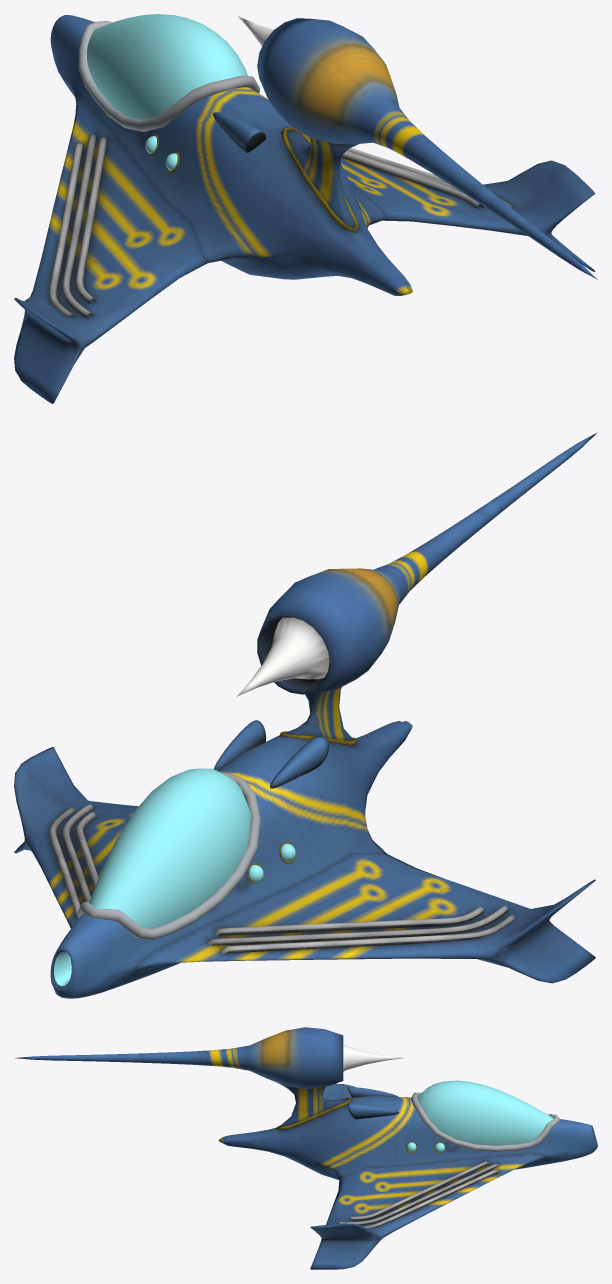
File: p2_wedge.fbx
3 renders of one model, top to bottom at view 1: azimuth 30°, elevation 25°; view 2: azimuth 150°, elevation 25°; view 3: azimuth 270°, elevation 25°, orthographic. The views are drawn at different scales.
Visible parts, largest first — view 1: p1_wedge_geo1; view 2: p1_wedge_geo1; view 3: p1_wedge_geo1.
Part boxes in pixels (x1,y1,x2,y2): p1_wedge_geo1: (14,14,597,403); p1_wedge_geo1: (14,432,597,998); p1_wedge_geo1: (15,1027,597,1269).
Size of the model in its own units: 1854 by 1007 by 3176.
3 materials, 1 textured.
